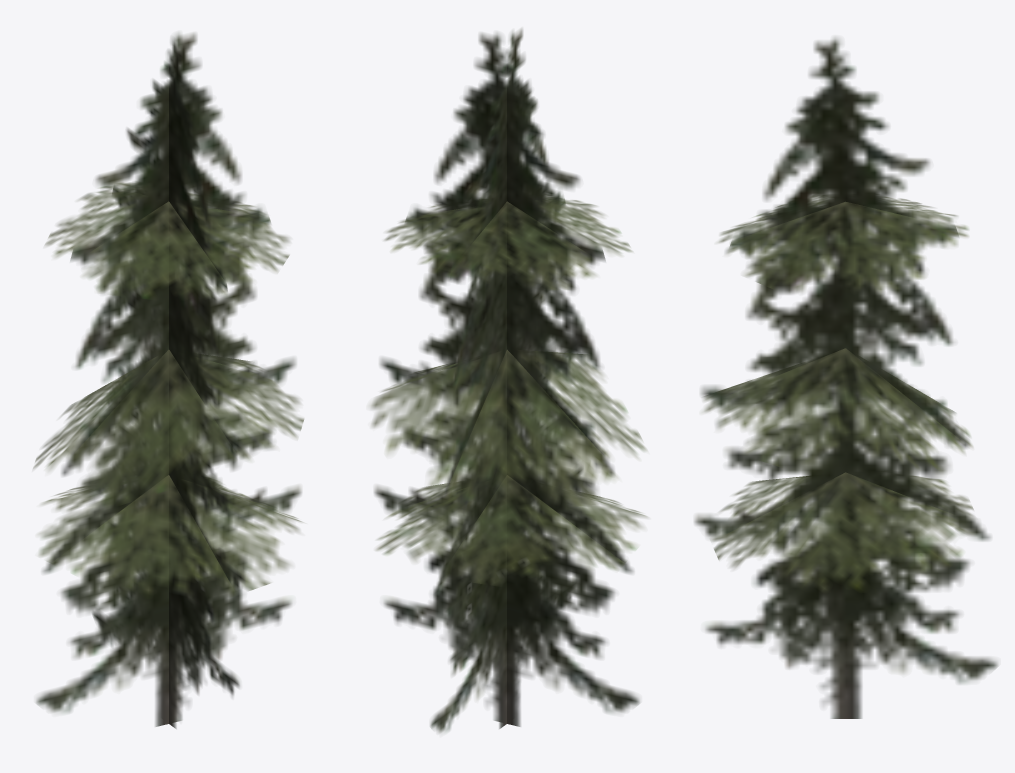
File: distant-tree-03.glb
3 views of the same model, side by side, from view 1: azimuth 30°, elevation 25°; view 2: azimuth 150°, elevation 25°; view 3: azimuth 270°, elevation 25° (orthographic).
Parts seen in each view (by area): view 1: Background_Tree_Atlas.002; view 2: Background_Tree_Atlas.002; view 3: Background_Tree_Atlas.002.
Boxes of the visible parts, left/top/right/bottom form: Background_Tree_Atlas.002: left=33, top=33, right=303, bottom=728; Background_Tree_Atlas.002: left=370, top=29, right=647, bottom=733; Background_Tree_Atlas.002: left=694, top=37, right=998, bottom=718.
Size of the model in its own units: 743 by 1822 by 744.
Materials: 1 (1 with a texture image).
